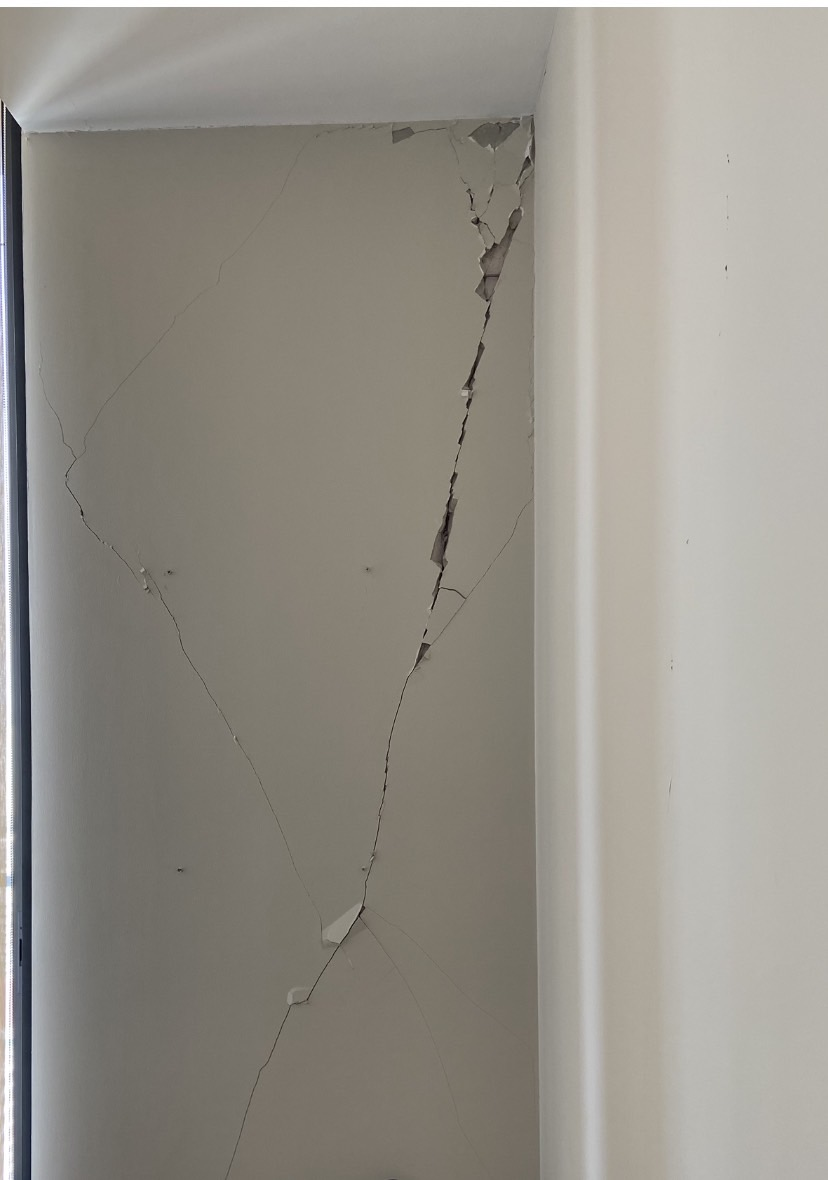High: (35, 114, 554, 1172)
